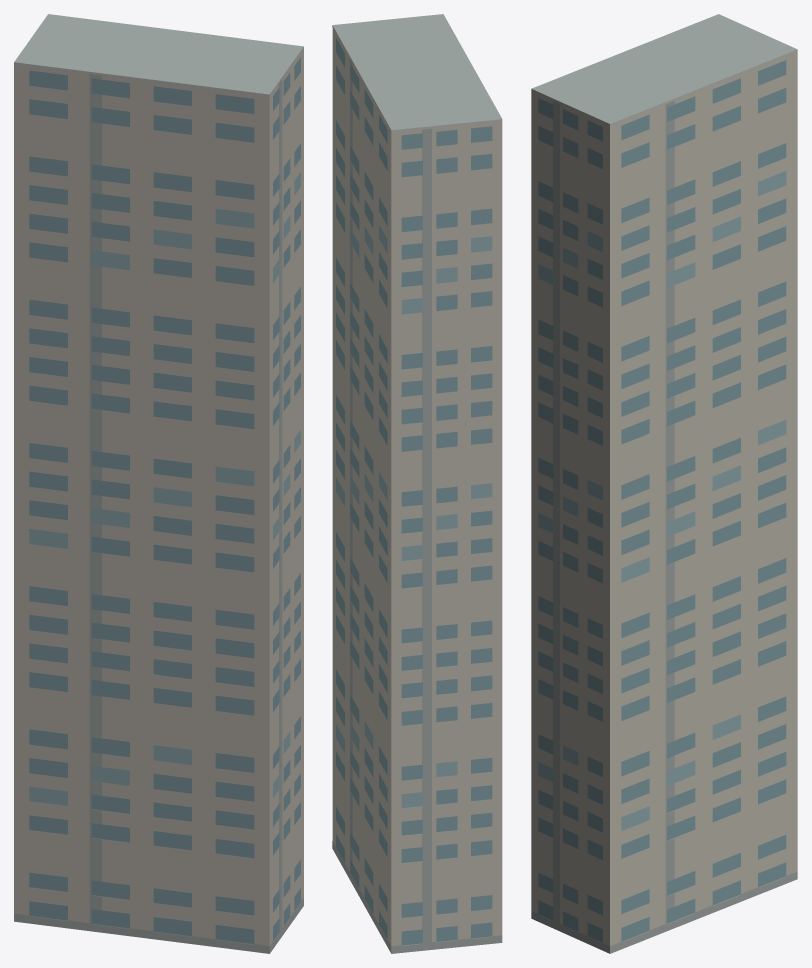
Rendered from residential-08b0dd90-00e2-44ea-a948-f690585f9f07.glb.
3 views of the same model, side by side, from view 1: azimuth 30°, elevation 25°; view 2: azimuth 150°, elevation 25°; view 3: azimuth 270°, elevation 25° (orthographic). The views are drawn at different scales.
Visible parts, largest first — view 1: residential-08b0dd90-00e2-44ea-a948-f690585f9f07.tmp; view 2: residential-08b0dd90-00e2-44ea-a948-f690585f9f07.tmp; view 3: residential-08b0dd90-00e2-44ea-a948-f690585f9f07.tmp.
Boxes of the visible parts, bbox=[...] form: residential-08b0dd90-00e2-44ea-a948-f690585f9f07.tmp: bbox=[14, 14, 303, 953]; residential-08b0dd90-00e2-44ea-a948-f690585f9f07.tmp: bbox=[332, 14, 502, 953]; residential-08b0dd90-00e2-44ea-a948-f690585f9f07.tmp: bbox=[531, 14, 797, 953].
Bounding box in the file's own units: 25.04 × 88 × 25.6.
